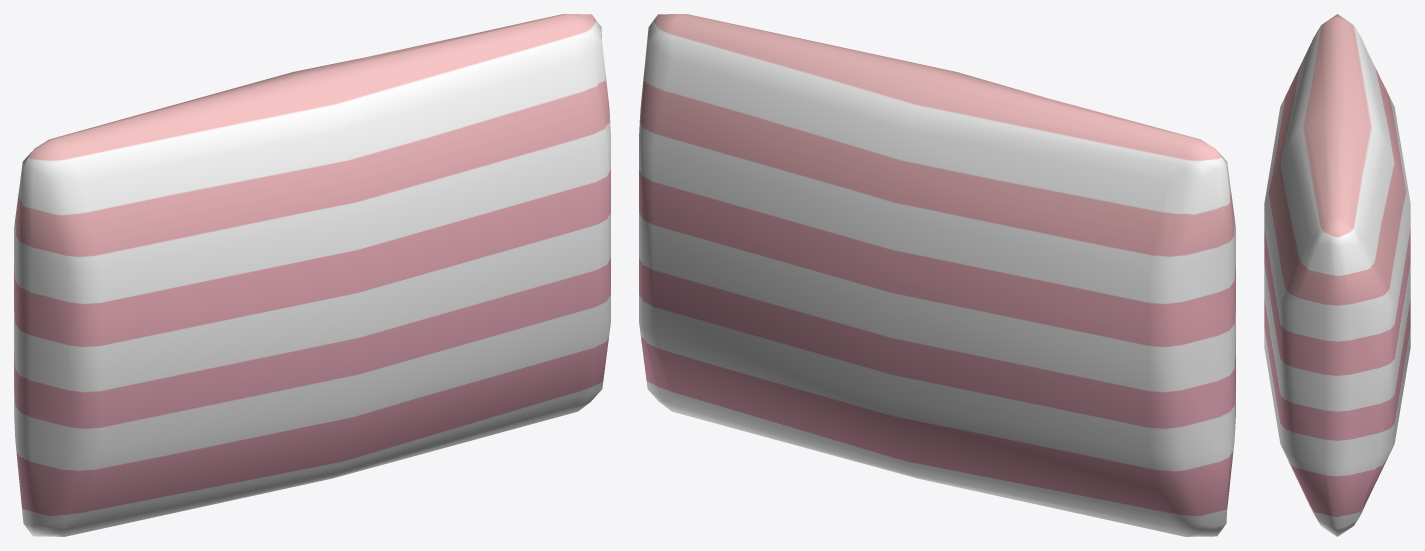
File: Pillow_Strawberry.fbx
3 views of the same model, side by side, from view 1: azimuth 30°, elevation 25°; view 2: azimuth 150°, elevation 25°; view 3: azimuth 270°, elevation 25° (orthographic). The views are drawn at different scales.
Visible parts, largest first — view 1: Pillow_Strawberry; view 2: Pillow_Strawberry; view 3: Pillow_Strawberry.
Part boxes in pixels (<box>): Pillow_Strawberry: <box>14,14,610,536</box>; Pillow_Strawberry: <box>639,14,1235,536</box>; Pillow_Strawberry: <box>1264,14,1410,536</box>.
Size of the model in its own units: 981 by 646 by 267.
Materials: 1 (1 with a texture image).
